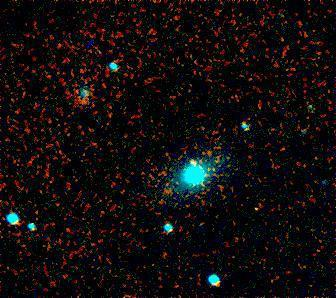star: (180, 148, 210, 178)
